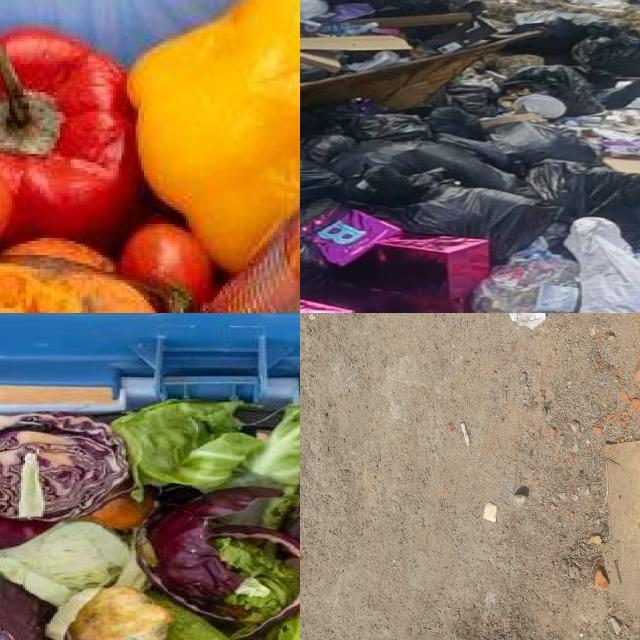Background: (300, 313, 640, 640)
Cig_bud: (460, 422, 470, 445)
Garbage: (300, 0, 640, 313), (0, 0, 300, 313), (0, 399, 300, 640)
Plastic_Bag: (328, 234, 491, 313), (394, 186, 559, 263), (526, 159, 640, 242), (331, 140, 516, 191), (435, 122, 600, 172), (508, 14, 640, 75), (564, 217, 640, 313), (473, 247, 579, 313), (503, 65, 605, 116), (300, 98, 384, 141), (572, 25, 640, 77), (348, 166, 427, 207), (424, 106, 488, 140), (300, 158, 343, 206), (355, 113, 429, 140), (305, 135, 356, 163), (592, 128, 640, 157), (318, 220, 366, 244), (300, 0, 331, 22), (300, 63, 331, 83)
